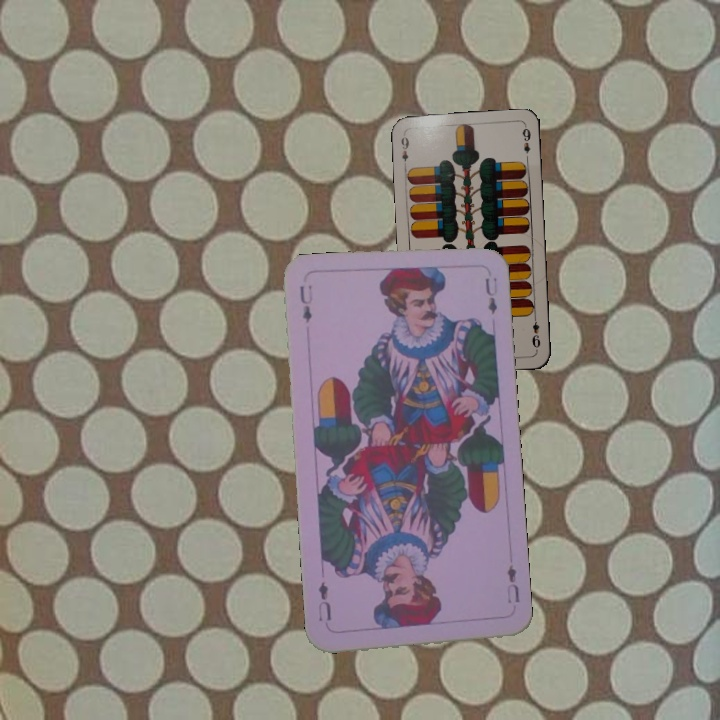E9: (528, 312, 543, 352), (397, 130, 412, 170)
EU: (502, 561, 522, 606), (295, 281, 315, 325)
